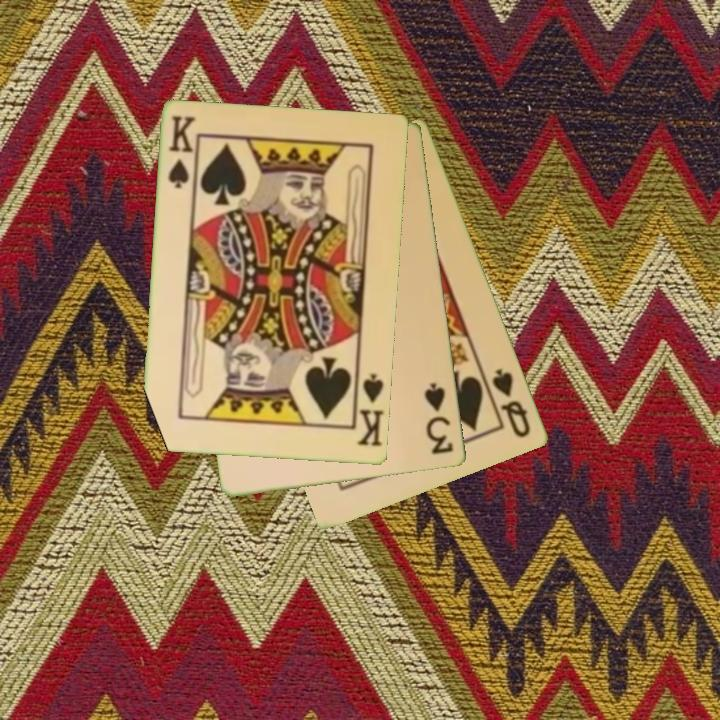3s: (421, 379, 457, 458)
Ks: (165, 112, 199, 192), (354, 370, 387, 450)
Qs: (489, 364, 534, 441)
